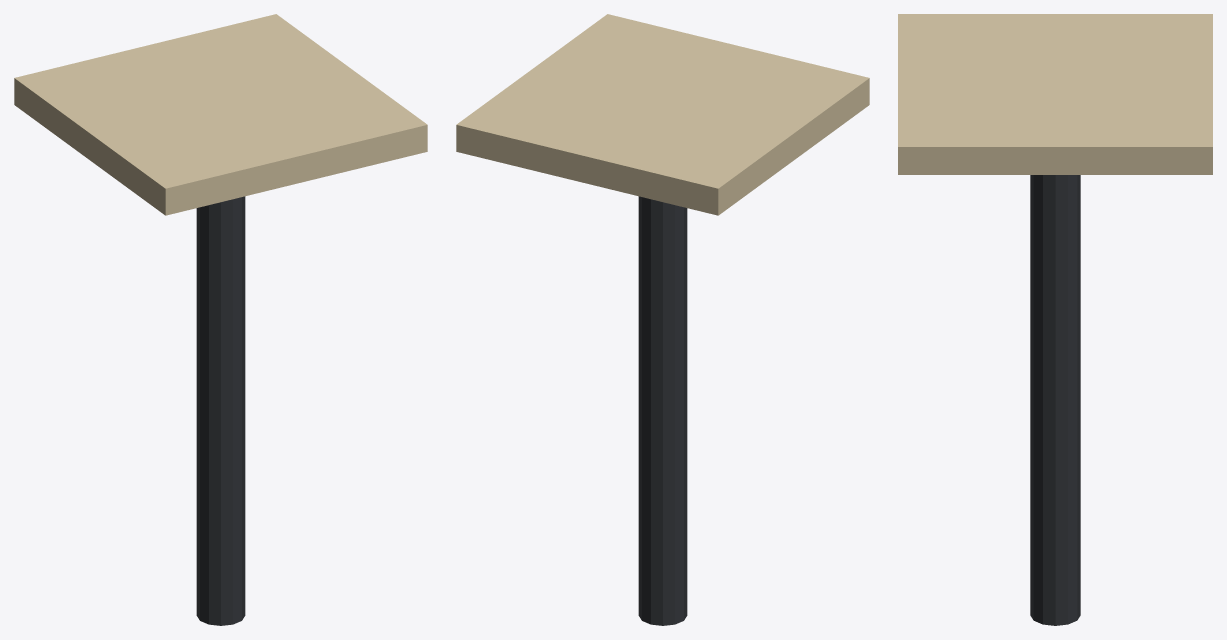
Rendered from counter_stool.glb.
3 renders of one model, left to right at view 1: azimuth 30°, elevation 25°; view 2: azimuth 150°, elevation 25°; view 3: azimuth 270°, elevation 25°, orthographic. The views are drawn at different scales.
Bounding box in the file's own units: 0.4064 × 0.762 × 0.4064.
